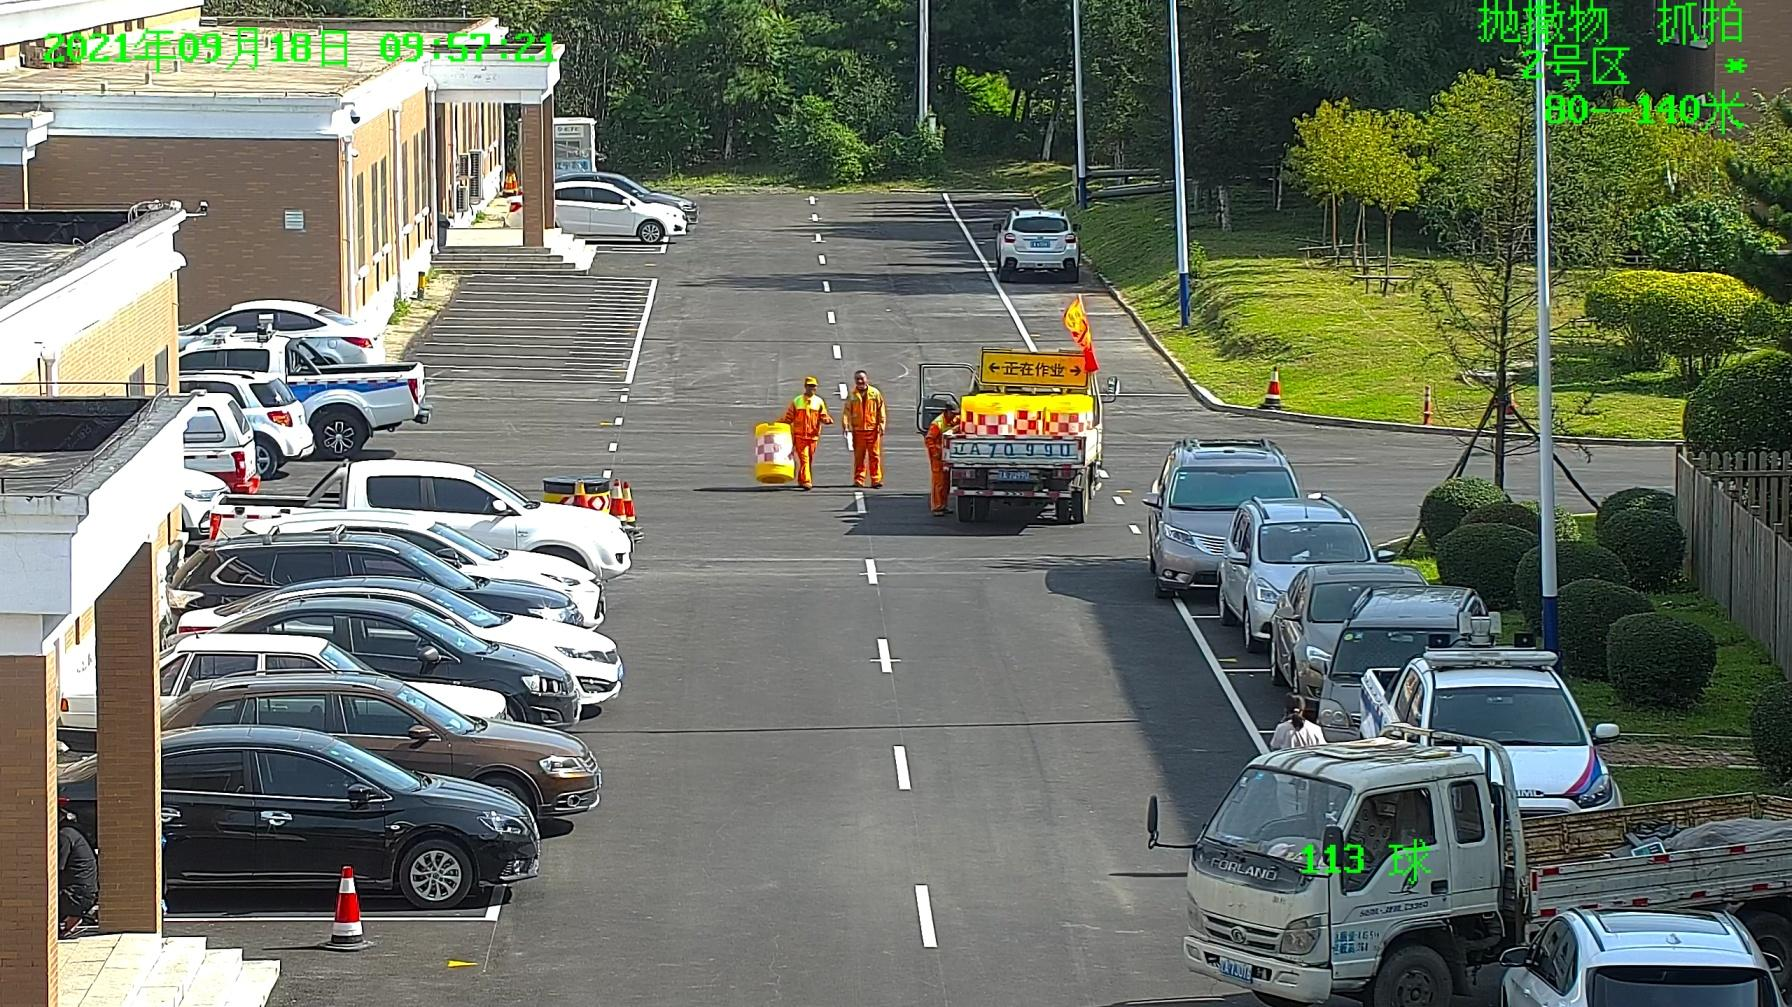cone_barrel: (751, 422, 794, 480), (965, 394, 1010, 436), (1047, 395, 1090, 437), (1006, 391, 1046, 435)
